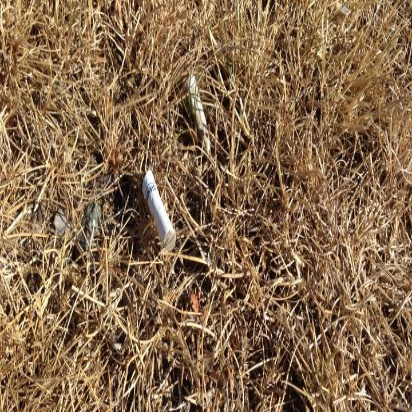cigarette: (135, 168, 175, 247), (186, 76, 213, 153)
